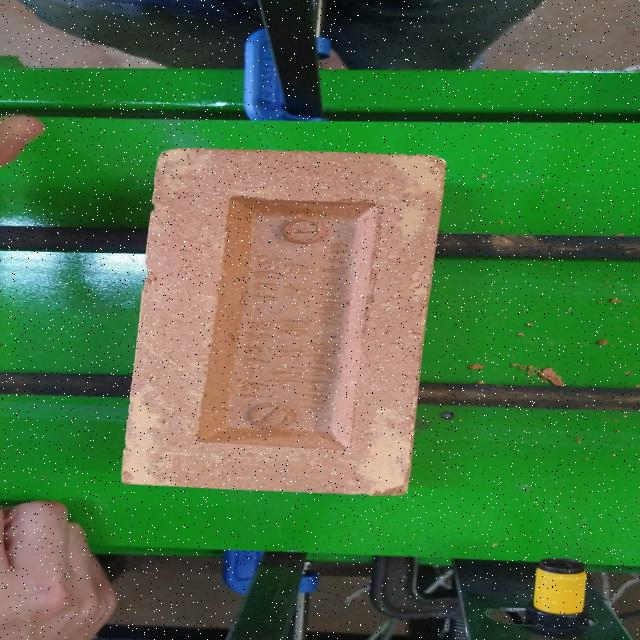bricks: (123, 151, 454, 497)
